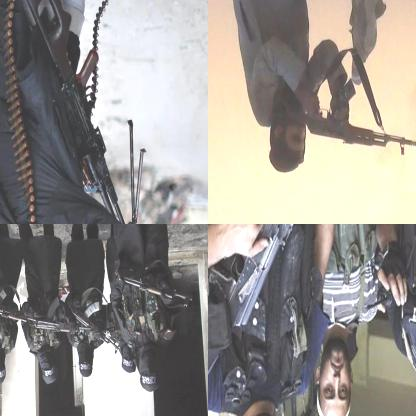rifle: (18, 0, 156, 223), (208, 224, 329, 403), (280, 81, 415, 158), (115, 257, 199, 309), (70, 288, 122, 358), (19, 311, 82, 335), (0, 283, 31, 323)
